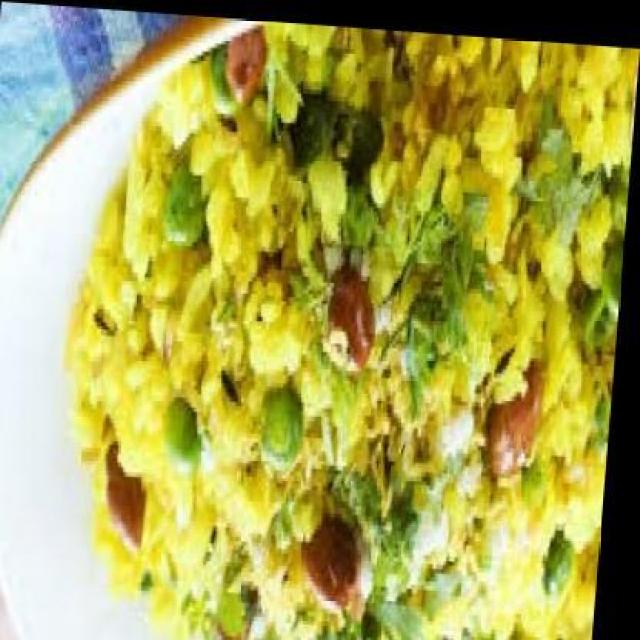poha: (51, 4, 640, 640)
